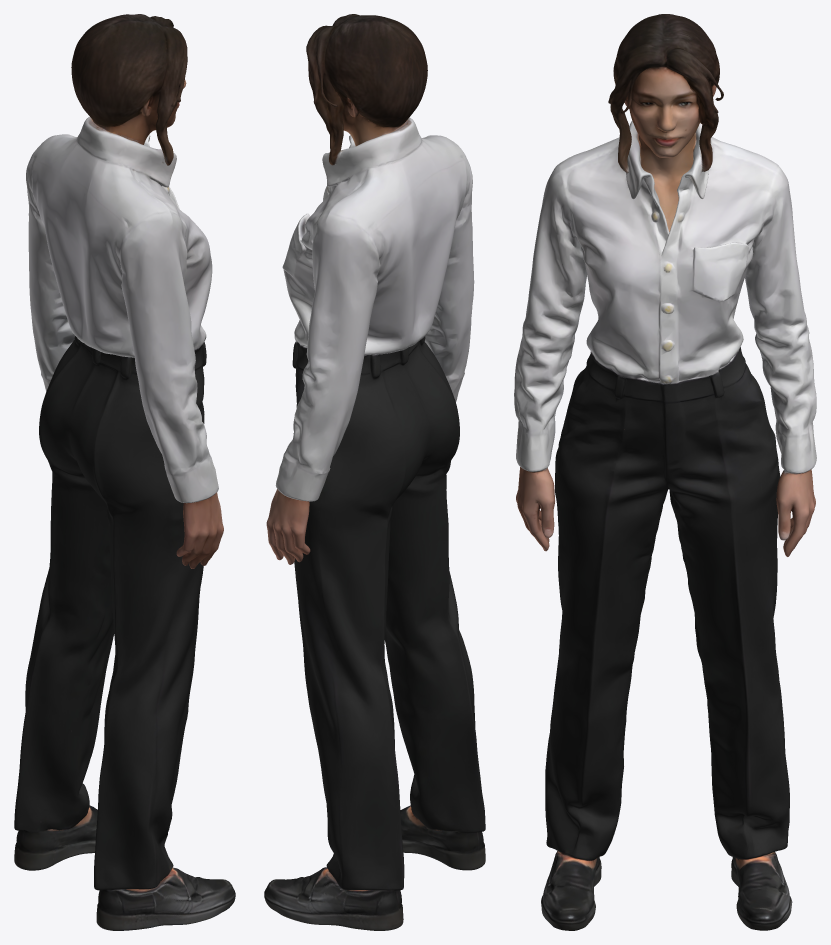
The model's file is style-minimal.glb.
3 renders of one model, left to right at view 1: azimuth 30°, elevation 25°; view 2: azimuth 150°, elevation 25°; view 3: azimuth 270°, elevation 25°, orthographic. The views are drawn at different scales.
Visible parts, largest first — view 1: tripo_node_d64ce71f-152c-4ecd-a56c-1cfcc7f586ef; view 2: tripo_node_d64ce71f-152c-4ecd-a56c-1cfcc7f586ef; view 3: tripo_node_d64ce71f-152c-4ecd-a56c-1cfcc7f586ef.
Boxes of the visible parts, x1=… form: tripo_node_d64ce71f-152c-4ecd-a56c-1cfcc7f586ef: x1=14, y1=14, x2=235, y2=930; tripo_node_d64ce71f-152c-4ecd-a56c-1cfcc7f586ef: x1=264, y1=14, x2=485, y2=930; tripo_node_d64ce71f-152c-4ecd-a56c-1cfcc7f586ef: x1=514, y1=14, x2=816, y2=930.
Size of the model in its own units: 0.1714 by 1 by 0.3098.
1 material, 1 textured.
